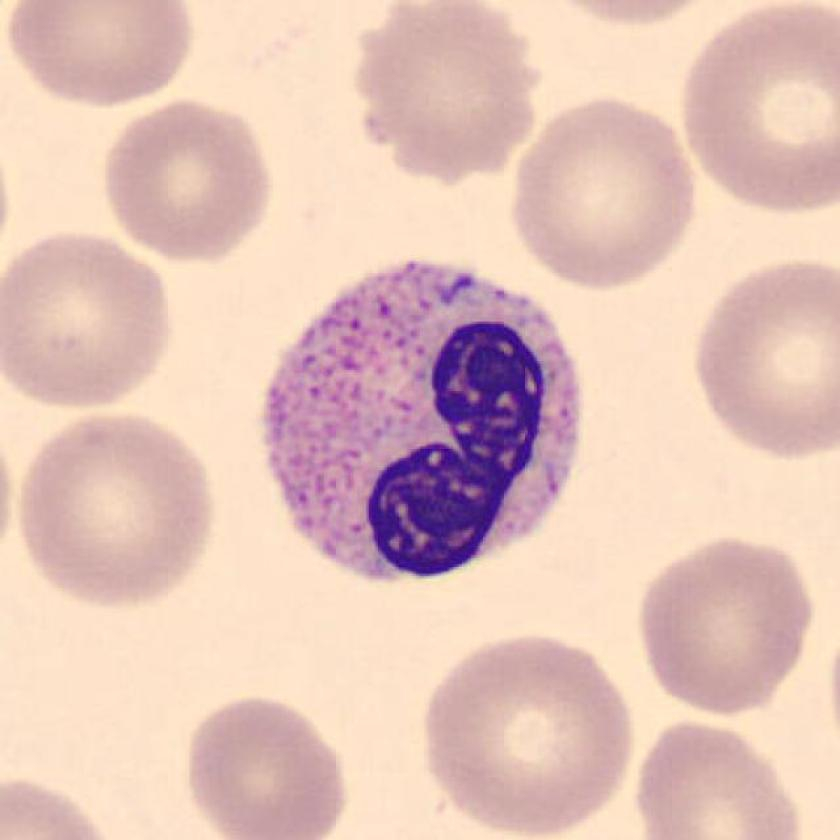neutrophil: (270, 262, 584, 577)
